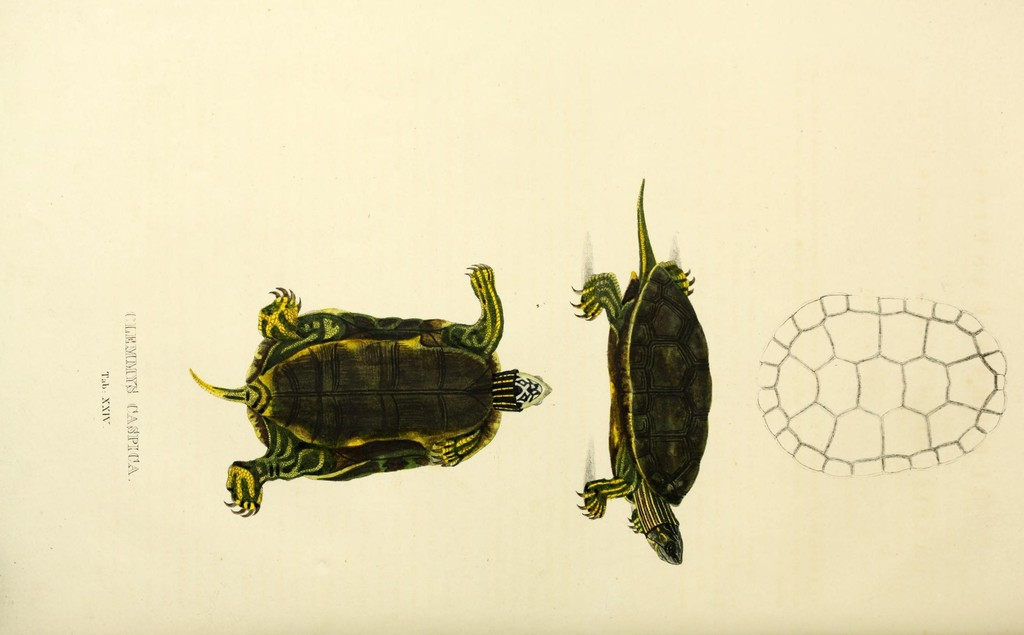Sea turtles: (188, 260, 552, 516), (566, 177, 712, 566)
